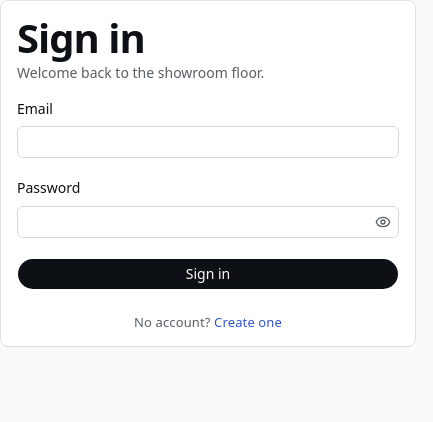
LoginPage › shows an inline alert, not a toast or redirect, for wrong credentials
Type "alice@example.com" into the field labelled "Email" at (208, 142), box [17,126,399,158]
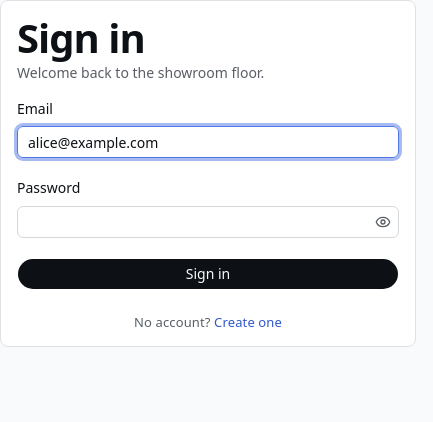
Type "wrong password" into the password field labelled "Password" at (194, 222), box [18,206,371,238]
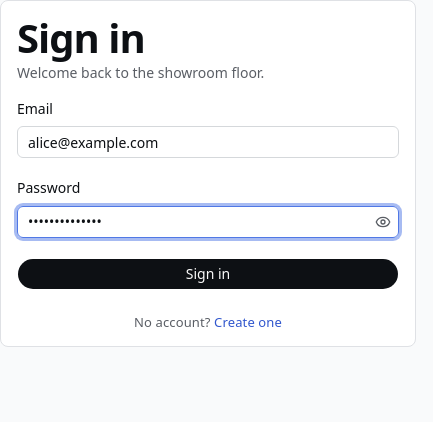
Click the button "Sign in" at (208, 274), box [17,258,399,290]
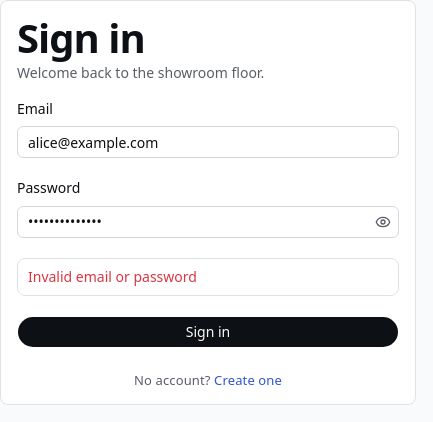
Now the message reads "Invalid email or password", box [28,266,197,286]
